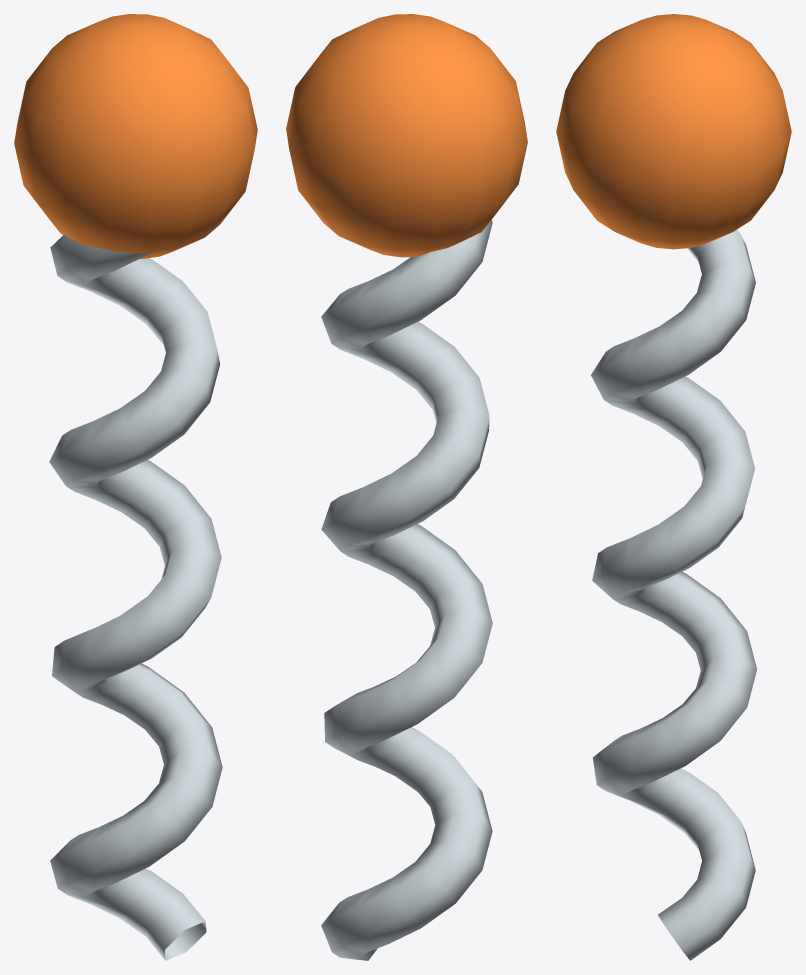
The model's file is variant-antenna.glb.
3 views of the same model, side by side, from view 1: azimuth 30°, elevation 25°; view 2: azimuth 150°, elevation 25°; view 3: azimuth 270°, elevation 25° (orthographic). The views are drawn at different scales.
Parts seen in each view (by area): view 1: Vibrating antenna spring.003, Antenna tip.003; view 2: Vibrating antenna spring.003, Antenna tip.003; view 3: Vibrating antenna spring.003, Antenna tip.003.
Part boxes in pixels (left/top/right/bottom): Vibrating antenna spring.003: left=49, top=235, right=222, bottom=960; Antenna tip.003: left=14, top=14, right=257, bottom=258; Vibrating antenna spring.003: left=321, top=220, right=492, bottom=960; Antenna tip.003: left=286, top=14, right=527, bottom=257; Vibrating antenna spring.003: left=591, top=229, right=756, bottom=960; Antenna tip.003: left=556, top=14, right=791, bottom=249.
Size of the model in its own units: 0.15 by 0.6382 by 0.15.
